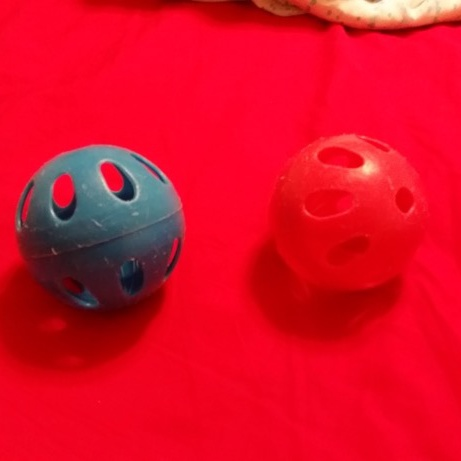ball: (10, 142, 190, 318), (265, 128, 433, 296)
